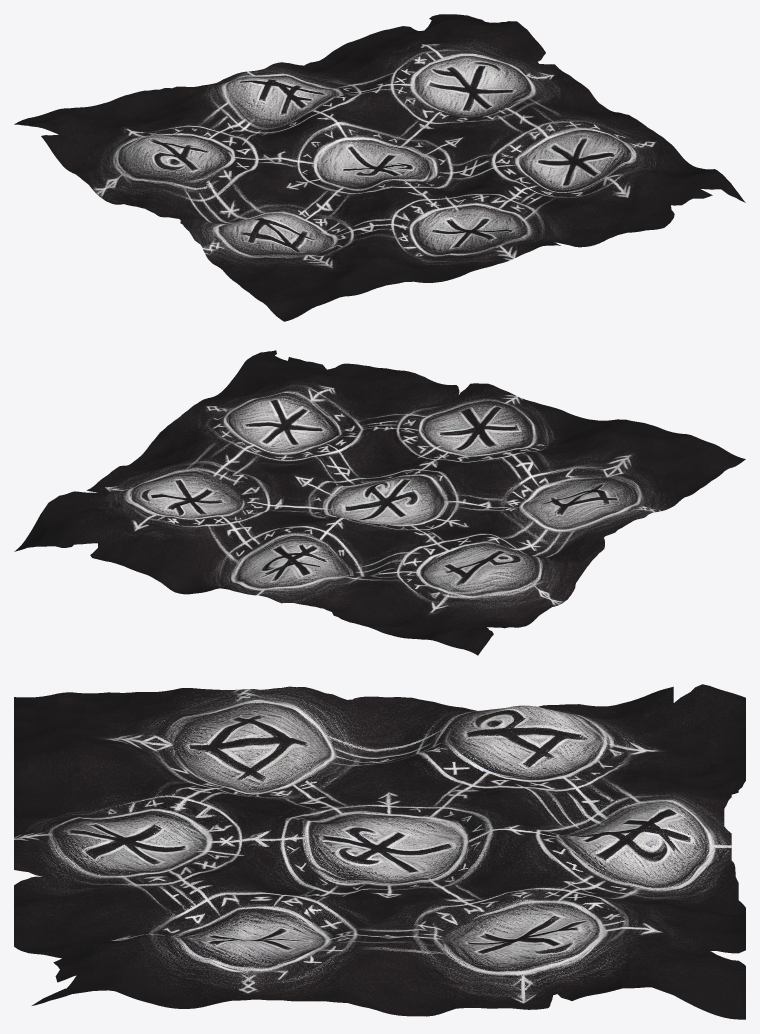
File: parchment_plainTorn_blackwsigils.fbx
3 renders of one model, top to bottom at view 1: azimuth 30°, elevation 25°; view 2: azimuth 150°, elevation 25°; view 3: azimuth 270°, elevation 25°, orthographic. The views are drawn at different scales.
Visible parts, largest first — view 1: Plane; view 2: Plane; view 3: Plane.
Boxes of the visible parts, bbox=[...] form: Plane: bbox=[14, 14, 745, 321]; Plane: bbox=[14, 350, 745, 655]; Plane: bbox=[14, 684, 745, 1019].
Bounding box in the file's own units: 1000 × 61.36 × 1000.
